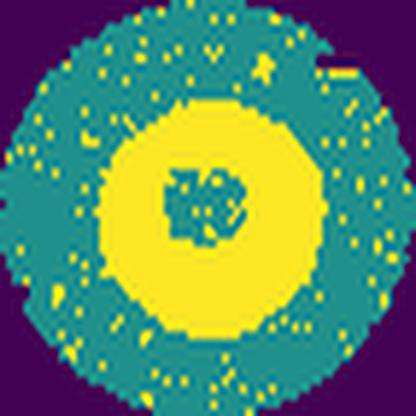Donut: (89, 86, 341, 353)
